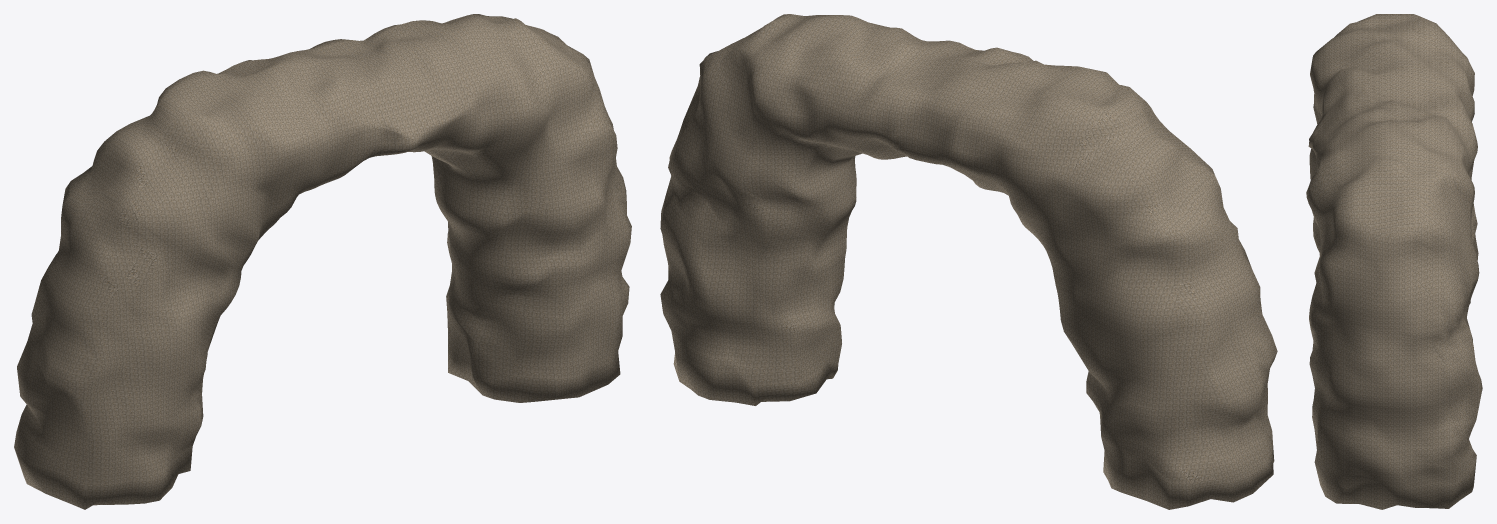
Rendered from aurora_sea_arch.glb.
3 renders of one model, left to right at view 1: azimuth 30°, elevation 25°; view 2: azimuth 150°, elevation 25°; view 3: azimuth 270°, elevation 25°, orthographic. The views are drawn at different scales.
Parts seen in each view (by area): view 1: Granite sea arch; view 2: Granite sea arch; view 3: Granite sea arch.
Part boxes in pixels (x1,y1,x2,y2): Granite sea arch: (14, 14, 631, 509); Granite sea arch: (660, 14, 1277, 509); Granite sea arch: (1306, 14, 1482, 509).
Size of the model in its own units: 109 by 65.3 by 31.59.
Materials: 1 (1 with a texture image).
